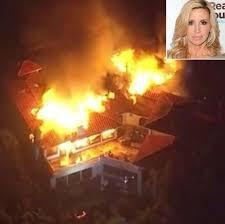fire: (29, 82, 115, 162), (110, 47, 177, 99)
